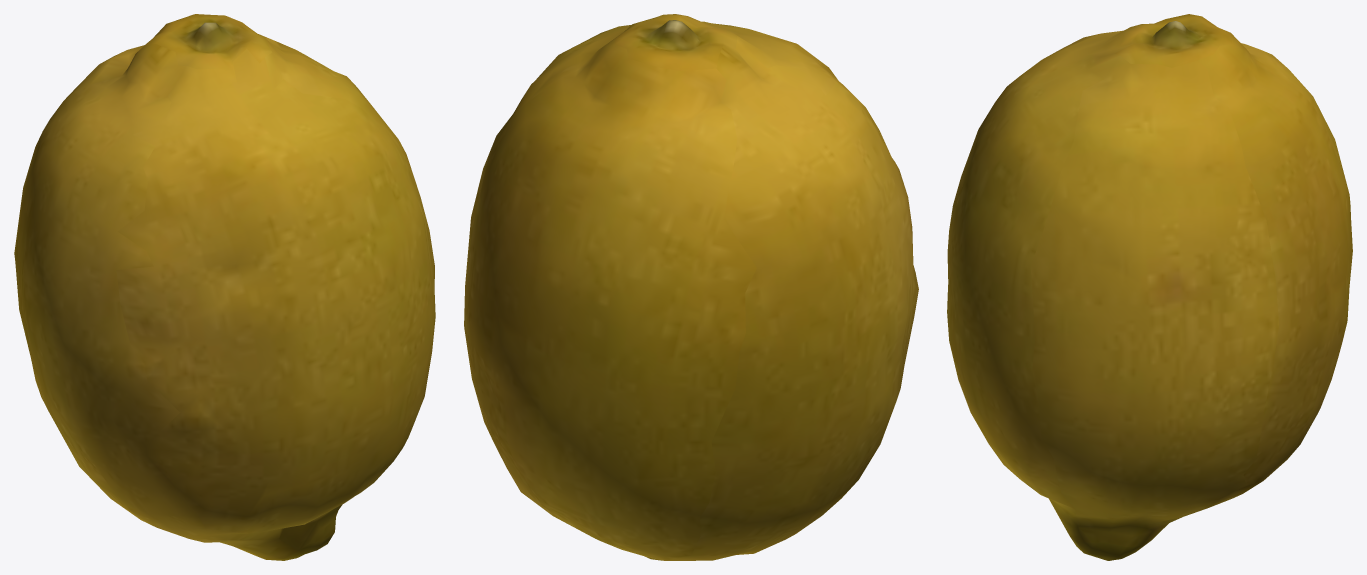
File: lemon.glb
3 renders of one model, left to right at view 1: azimuth 30°, elevation 25°; view 2: azimuth 150°, elevation 25°; view 3: azimuth 270°, elevation 25°, orthographic. The views are drawn at different scales.
Visible parts, largest first — view 1: lemon_lod0; view 2: lemon_lod0; view 3: lemon_lod0.
Boxes of the visible parts, x1,y1,x2,y2 form: lemon_lod0: (14,14,435,560); lemon_lod0: (464,14,918,560); lemon_lod0: (947,14,1352,560).
Size of what is drawn, in the model's own units: 0.0686 by 0.0954 by 0.0683.
1 material, 1 textured.
